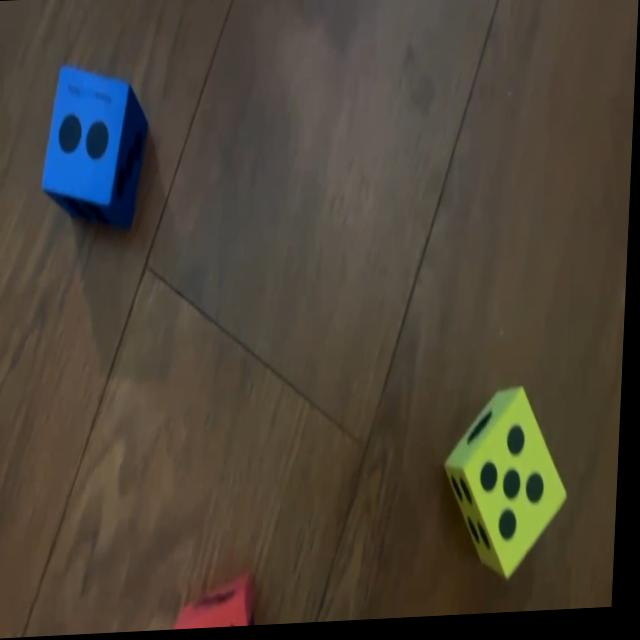blue_block: (44, 64, 150, 224)
red_block: (183, 574, 265, 632)
